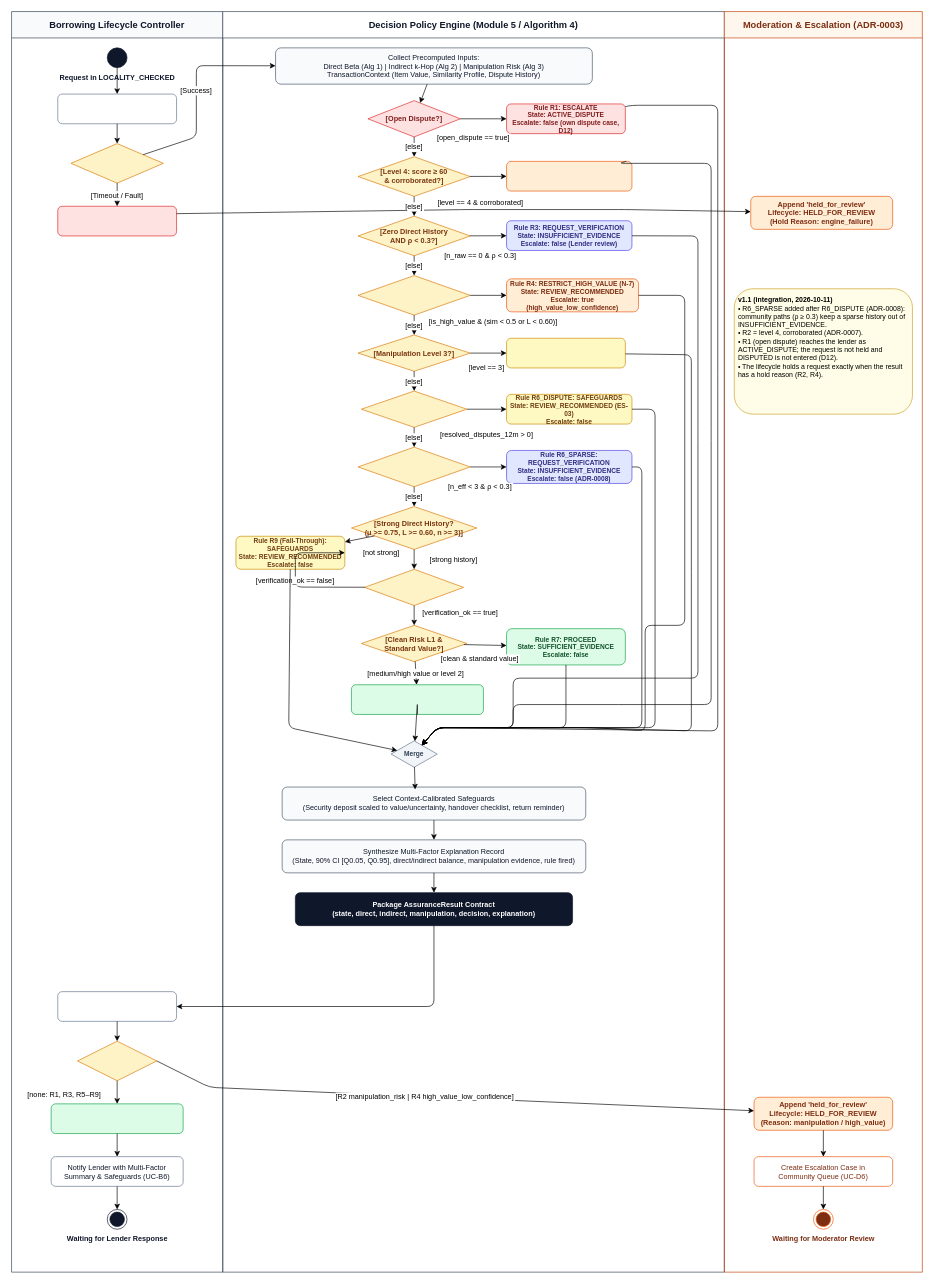
Image size: 934x1284. Some labels were removed from this diagram. Here are the shapes that lost their labels. From the top down, the centre of each, then its label:
At (x=117, y=108): "Invoke assess(request) (Async with 2000ms timer)".
At (x=116, y=163): "Engine Response Status?".
At (x=569, y=176): "Rule R2: ESCALATE State: REVIEW_RECOMMENDED Escalate: true (manipulation_risk)".
At (x=117, y=221): "Handle Engine Timeout & Log Error Event".
At (x=413, y=295): "[High-Value Item AND Weak/Dissimilar?]".
At (x=565, y=353): "Rule R5: REQUEST_VERIFICATION State: REVIEW_RECOMMENDED Escalate: false".
At (x=414, y=408): "[Resolved Dispute in Last 12m?]".
At (x=413, y=466): "[Sparse: n_eff < 3 AND ρ < 0.3?]".
At (x=414, y=587): "[Verification OK?]".
At (x=417, y=699): "Rule R8: PROCEED_WITH_SAFEGUARDS State: SUFFICIENT_EVIDENCE Escalate: false".
At (x=117, y=1006): "Receive AssuranceResult Contract".
At (x=117, y=1060): "Hold reason set?".
At (x=116, y=1118): "Append 'assessment_generated' Lifecycle: ASSESSED".
